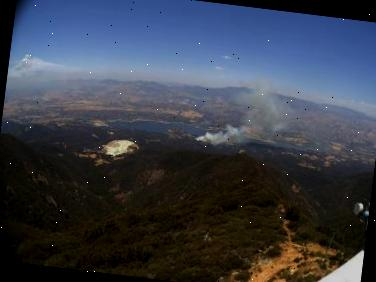smoke: (191, 70, 307, 155)
